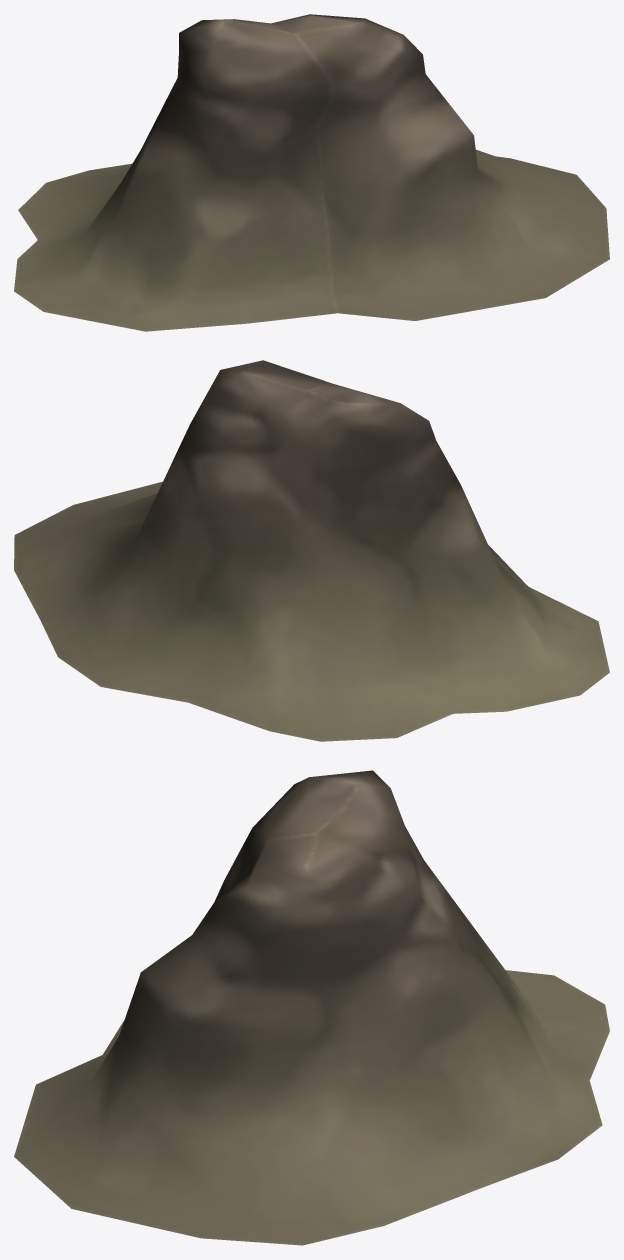
File: Rock_Small_05.FBX
3 views of the same model, one above another, from view 1: azimuth 30°, elevation 25°; view 2: azimuth 150°, elevation 25°; view 3: azimuth 270°, elevation 25° (orthographic). The views are drawn at different scales.
Parts seen in each view (by area): view 1: Rock_Small_05; view 2: Rock_Small_05; view 3: Rock_Small_05.
Part boxes in pixels (x1,y1,x2,y2): Rock_Small_05: (14, 14, 609, 331); Rock_Small_05: (14, 360, 609, 741); Rock_Small_05: (14, 770, 609, 1245).
Bounding box in the file's own units: 1116 × 430 × 875.
